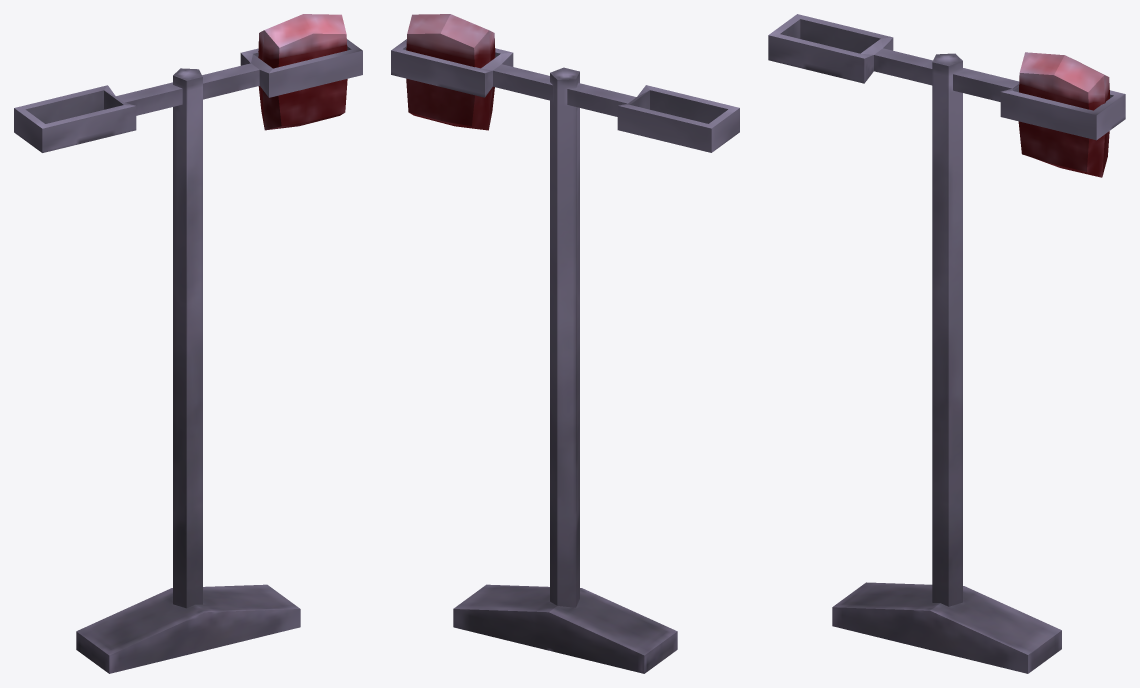
The model's file is bloodCounter.fbx.
The picture shows the model from 3 angles, left to right: view 1: azimuth 30°, elevation 25°; view 2: azimuth 150°, elevation 25°; view 3: azimuth 330°, elevation 25°; orthographic projection. The views are drawn at different scales.
Visible parts, largest first — view 1: bloodDropCounter; view 2: bloodDropCounter; view 3: bloodDropCounter.
Part boxes in pixels (x1,y1,x2,y2): bloodDropCounter: (14, 14, 362, 673); bloodDropCounter: (391, 14, 739, 673); bloodDropCounter: (768, 14, 1125, 673).
Bounding box in the file's own units: 168 × 298 × 30.
Materials: 1 (1 with a texture image).
